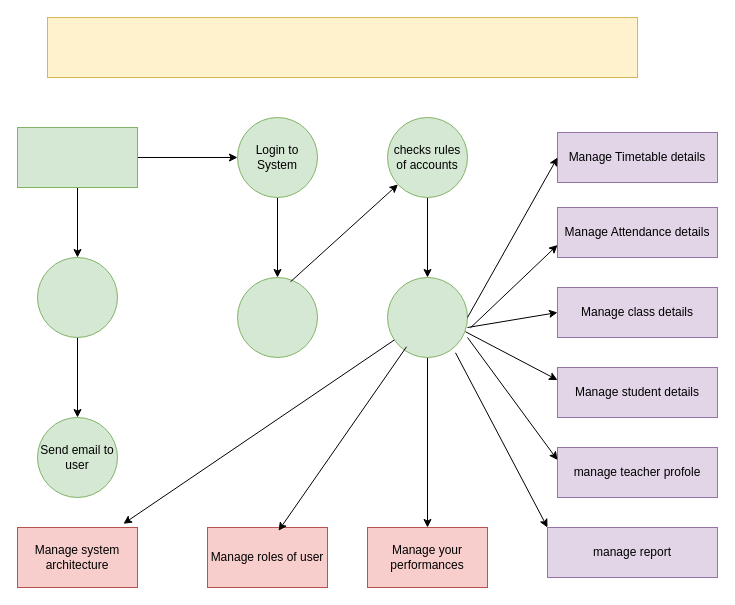
The diagram is 735 pixels wide and 605 high, and some of its shapes have lost their labels. Each missing label, with the centre of its shape:
Admin: [77,157]
Check Credentials: [277,317]
Forgot password: [77,297]
Manage modules: [427,317]
Student Information System: [342,47]
